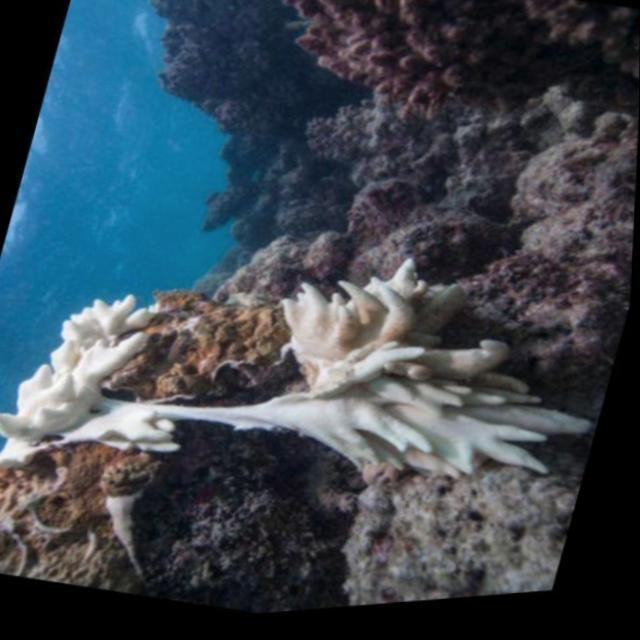Dead Coral: (279, 0, 640, 291), (75, 0, 315, 251), (128, 438, 354, 630)
